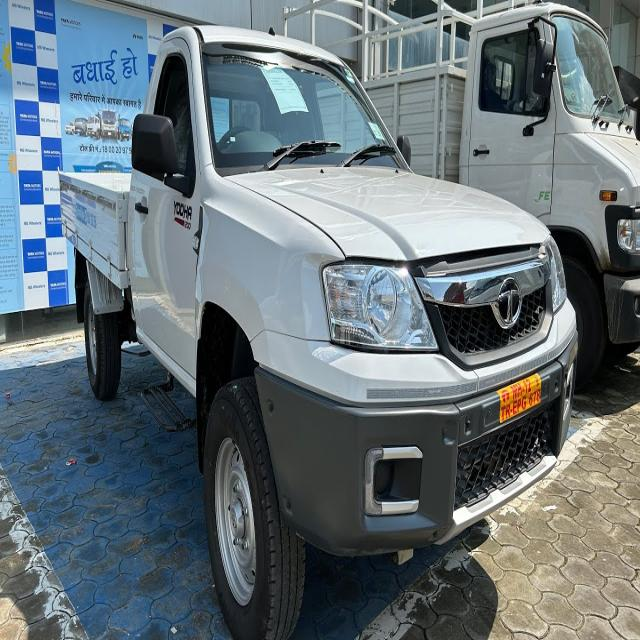light_vehicle: (60, 28, 577, 621)
